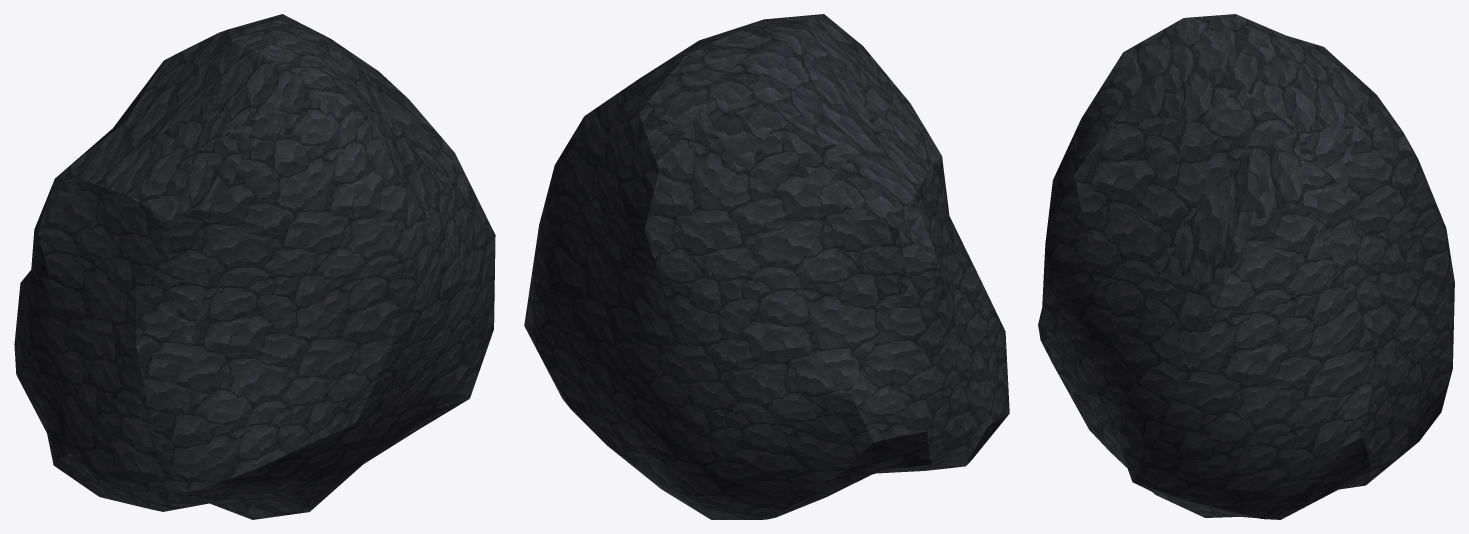
The model's file is grock_m.glb.
3 renders of one model, left to right at view 1: azimuth 30°, elevation 25°; view 2: azimuth 150°, elevation 25°; view 3: azimuth 270°, elevation 25°, orthographic. The views are drawn at different scales.
Parts seen in each view (by area): view 1: model; view 2: model; view 3: model.
Part boxes in pixels (left/top/right/bottom): model: left=14, top=14, right=495, bottom=519; model: left=524, top=14, right=1009, bottom=519; model: left=1038, top=14, right=1454, bottom=519.
Size of the model in its own units: 3.43 by 3.59 by 2.81.
1 material, 1 textured.
